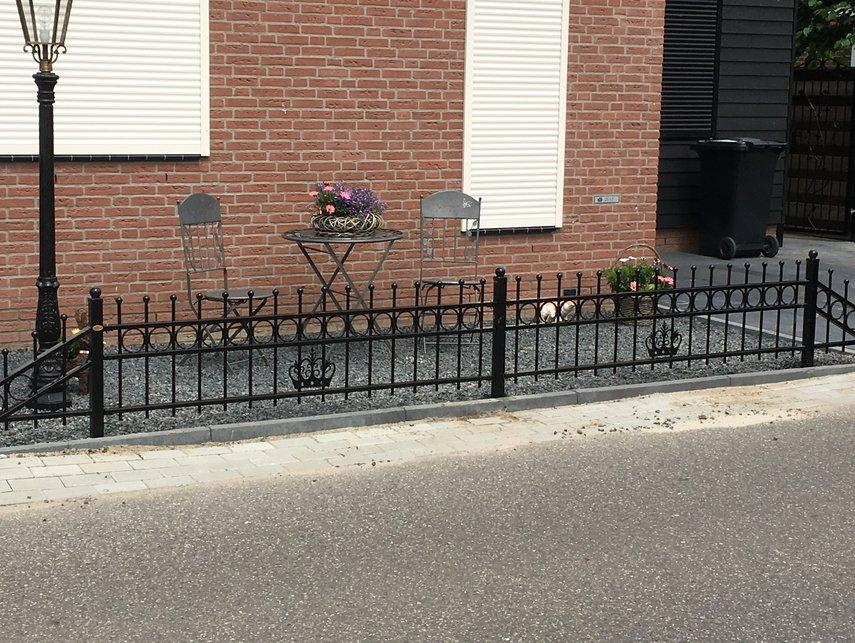obstacle: (0, 305, 855, 605)
